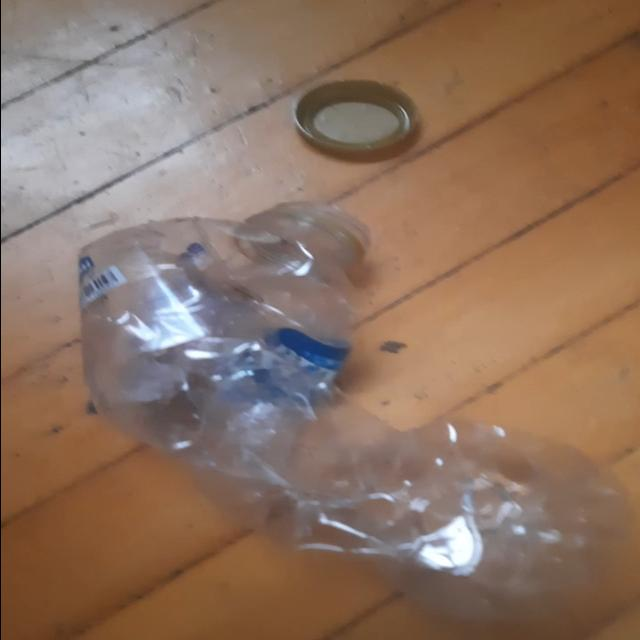Plastic: (75, 205, 638, 634)
